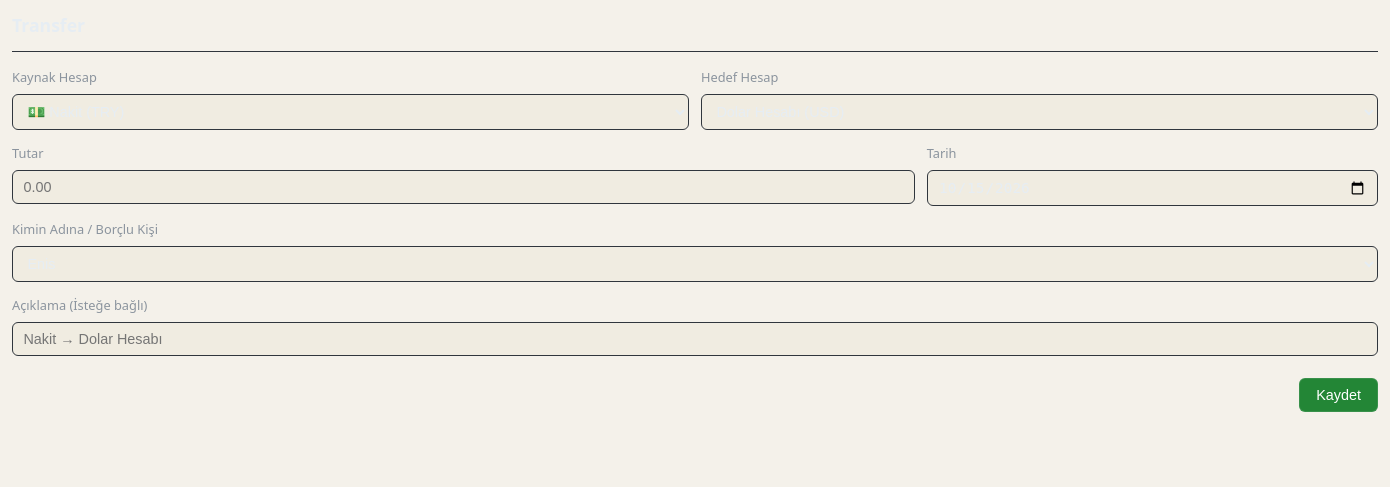
Test: TransferFormu › iki hesap farklı para birimindeyse kaydetmez
Type "100" into the number field with id "t-tutar" at (463, 186), box [12, 170, 915, 204]
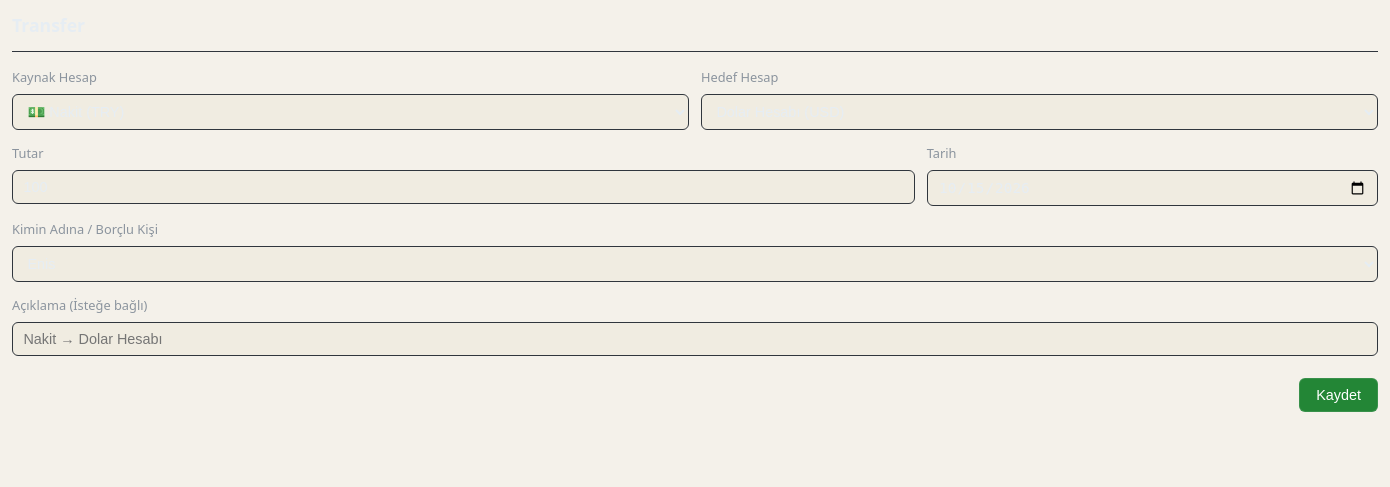
Click the button "Kaydet" at (1339, 395), box [1299, 378, 1378, 412]
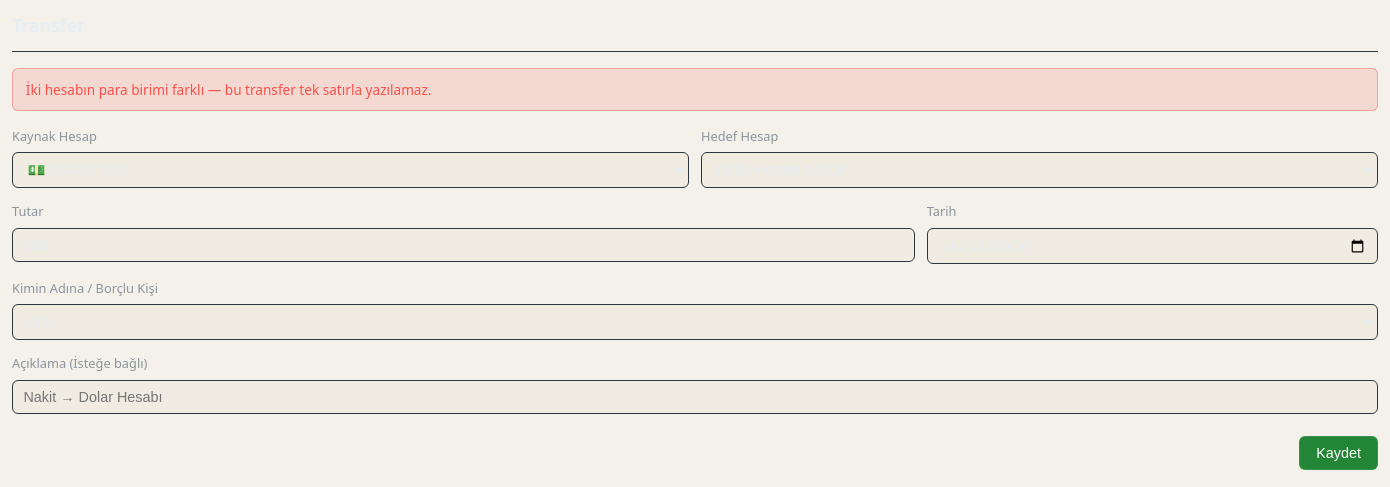
Expected: the text "para birimi farklı" is shown, [26, 80, 432, 99]
